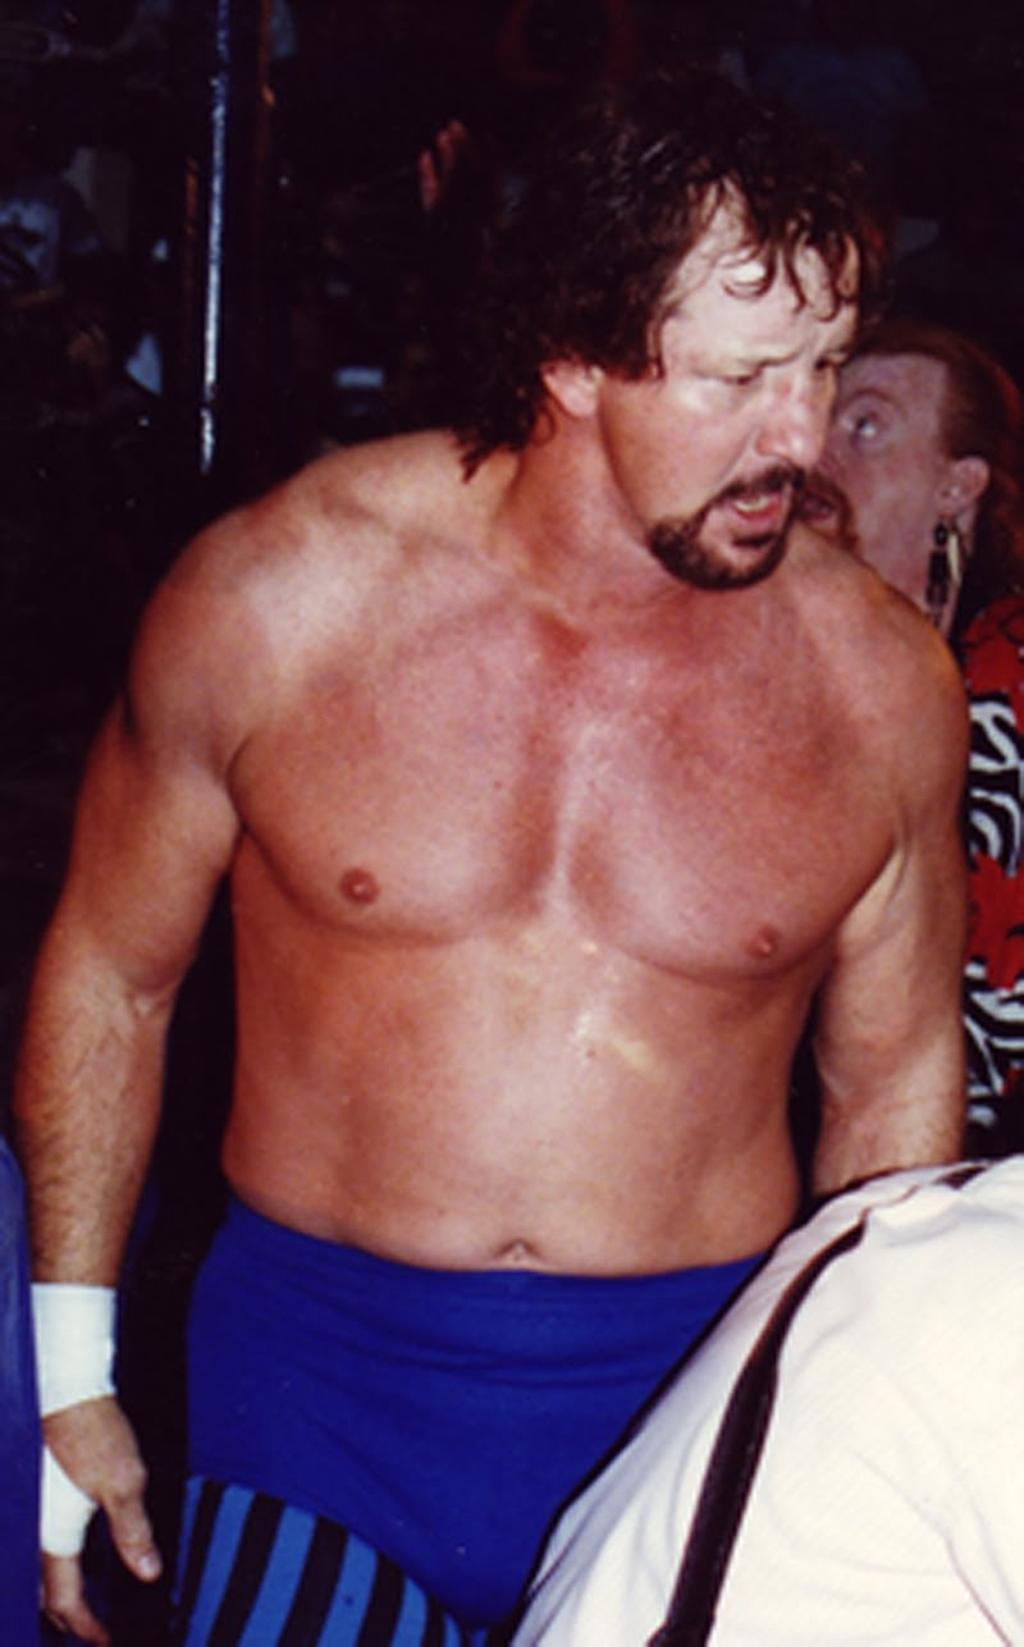face: (636, 189, 838, 577), (806, 353, 928, 539)
